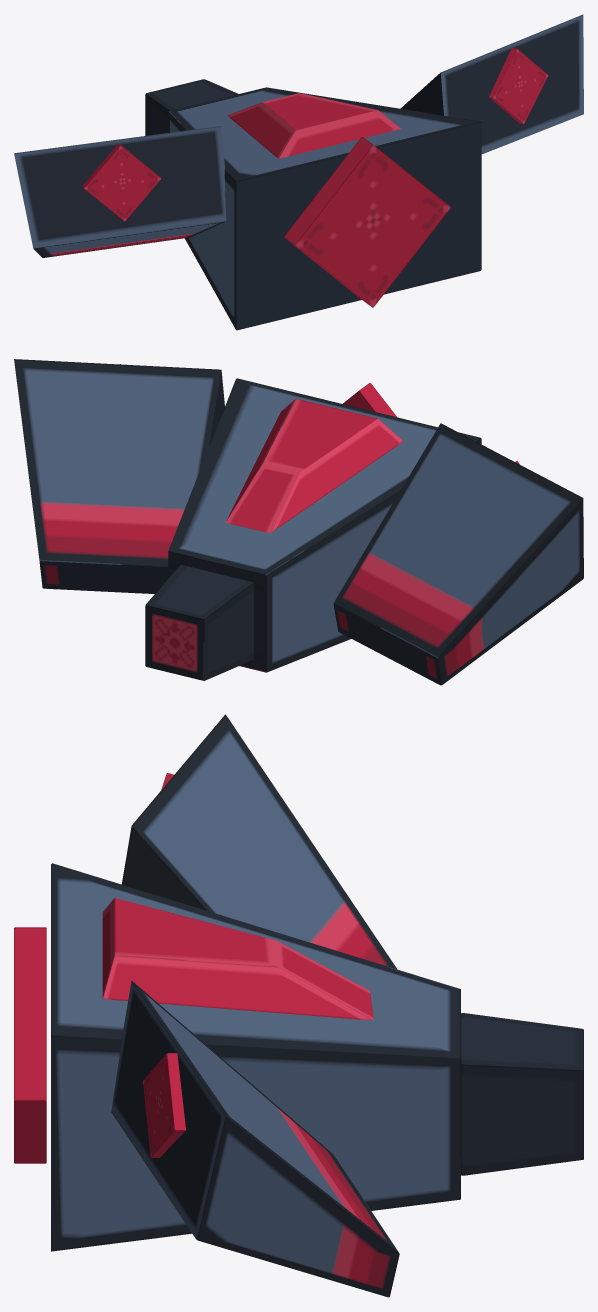
The model's file is LaserEnemy.fbx.
3 renders of one model, top to bottom at view 1: azimuth 30°, elevation 25°; view 2: azimuth 150°, elevation 25°; view 3: azimuth 270°, elevation 25°, orthographic. The views are drawn at different scales.
Visible parts, largest first — view 1: Base, Ala derech, Propulsor_1, Ala derech_1, Cabina, Propulsor, Propulsor_2, Laser; view 2: Ala derech, Ala derech_1, Base, Cabina, Laser, Propulsor_1; view 3: Base, Ala derech_1, Ala derech, Cabina, Laser, Propulsor_1, Propulsor_2.
Part boxes in pixels (x1,y1,x2,y2): Base: (168, 87, 481, 330); Ala derech: (14, 126, 226, 257); Propulsor_1: (284, 137, 450, 307); Ala derech_1: (400, 14, 583, 154); Cabina: (227, 93, 400, 158); Propulsor: (82, 143, 161, 221); Propulsor_2: (489, 47, 548, 124); Laser: (145, 79, 238, 135); Ala derech: (333, 423, 583, 685); Ala derech_1: (14, 359, 224, 593); Base: (168, 378, 481, 672); Cabina: (225, 398, 403, 533); Laser: (145, 564, 253, 680); Propulsor_1: (343, 383, 396, 417); Base: (51, 863, 460, 1251); Ala derech_1: (111, 981, 399, 1297); Ala derech: (121, 714, 397, 969); Cabina: (102, 898, 373, 1020); Laser: (461, 1013, 583, 1175); Propulsor_1: (14, 927, 46, 1163); Propulsor_2: (143, 1053, 185, 1157).
Bounding box in the file's own units: 1450 × 441 × 869.
Materials: 1 (1 with a texture image).
